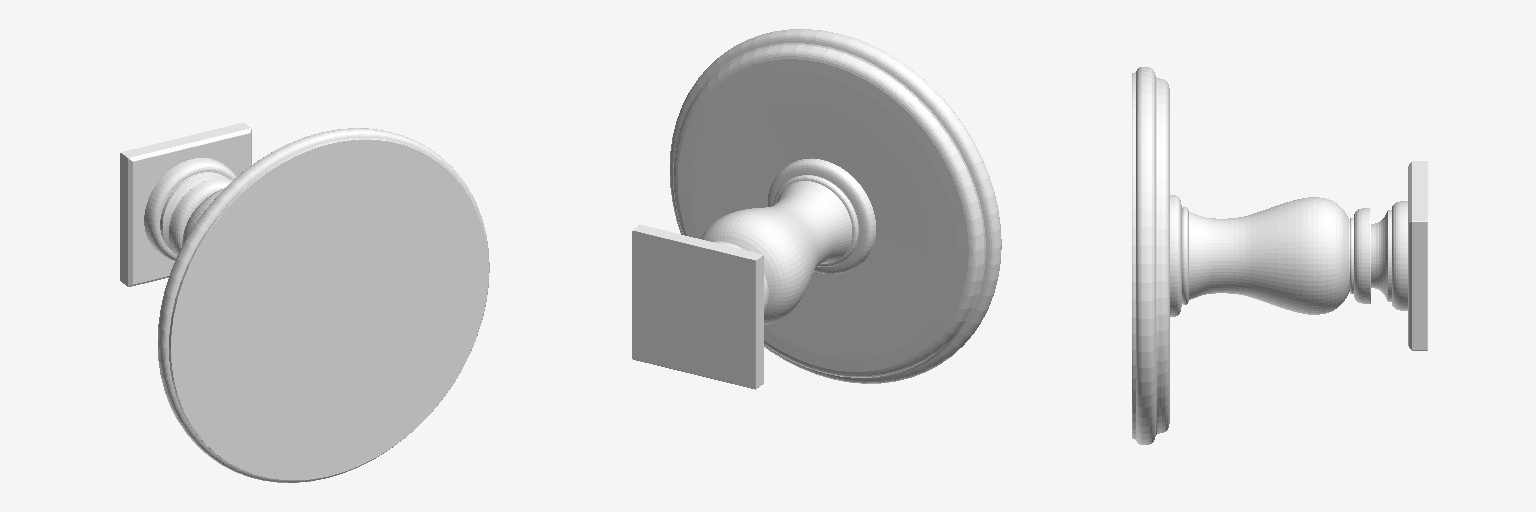
File: stoneTable.obj
The picture shows the model from 3 angles: view 1: azimuth 30°, elevation 25°; view 2: azimuth 150°, elevation 25°; view 3: azimuth 270°, elevation 25°; orthographic projection.
Parts seen in each view (by area): view 1: 20829_Stone_garden_table_v1; view 2: 20829_Stone_garden_table_v1; view 3: 20829_Stone_garden_table_v1.
Boxes of the visible parts, <box> form: 20829_Stone_garden_table_v1: <box>120,122,489,482</box>; 20829_Stone_garden_table_v1: <box>632,29,1001,389</box>; 20829_Stone_garden_table_v1: <box>1132,67,1427,444</box>.
Size of the model in its own units: 8.99 by 8.99 by 7.